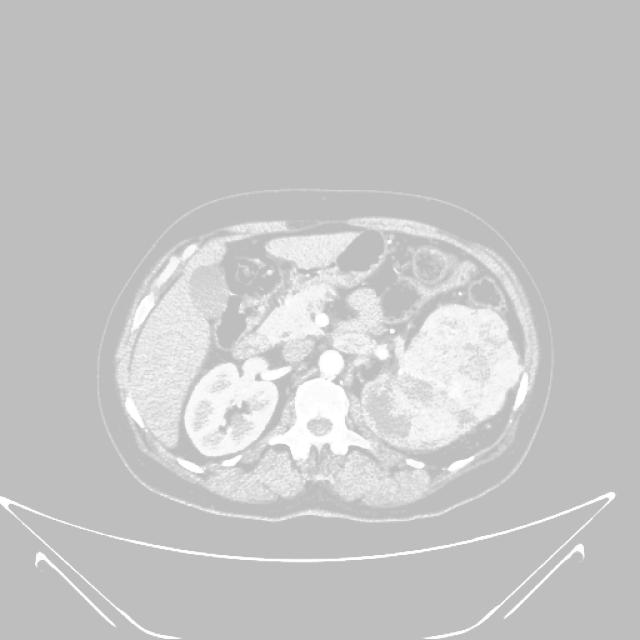TUMOR: (125, 304, 516, 444)
